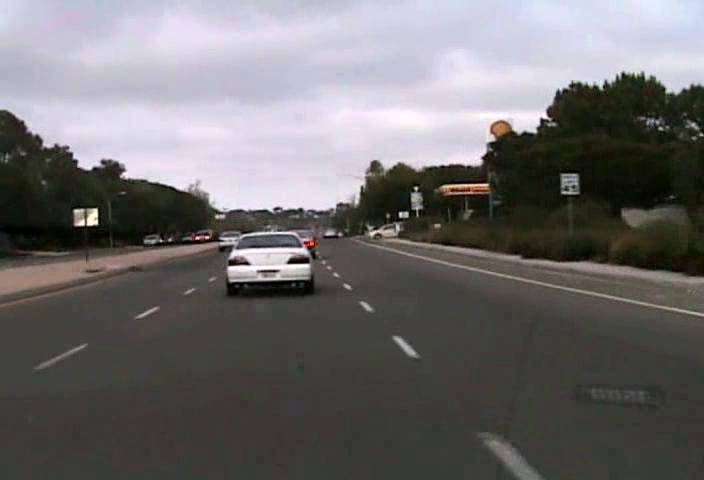speedLimit45: (559, 172, 580, 195)
